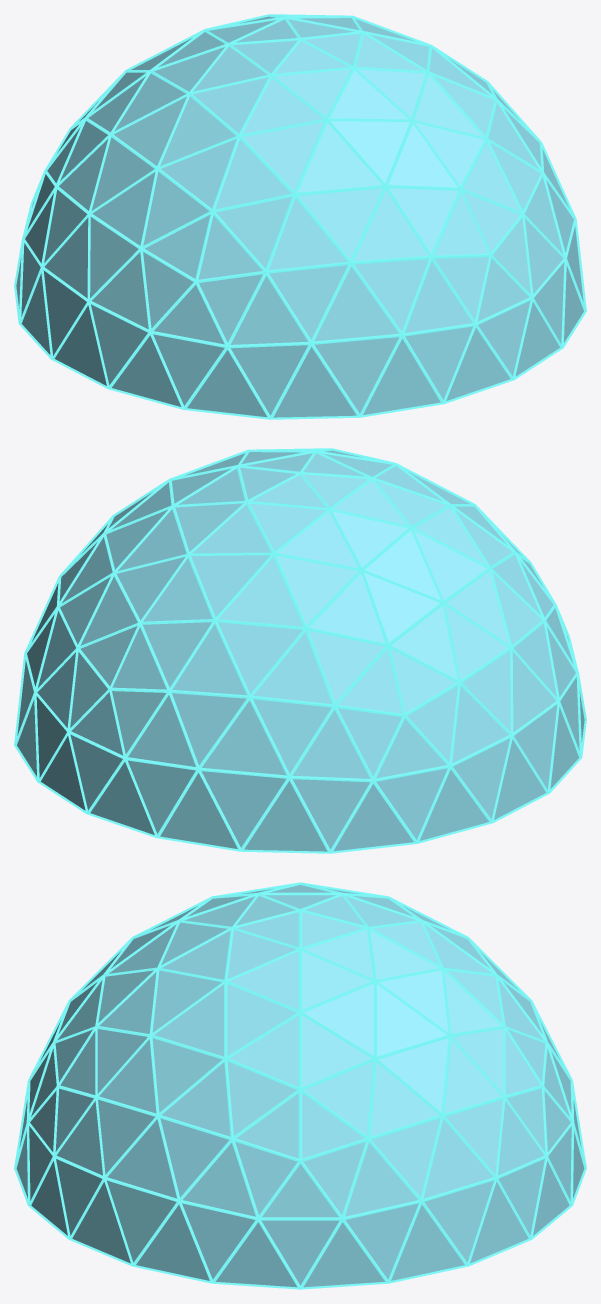
Rendered from techshield.glb.
The picture shows the model from 3 angles, top to bottom: view 1: azimuth 30°, elevation 25°; view 2: azimuth 150°, elevation 25°; view 3: azimuth 270°, elevation 25°; orthographic projection.
Visible parts, largest first — view 1: Icosphere.001; view 2: Icosphere.001; view 3: Icosphere.001.
Part boxes in pixels (x1=…): Icosphere.001: x1=14, y1=14, x2=586, y2=419; Icosphere.001: x1=14, y1=448, x2=586, y2=853; Icosphere.001: x1=14, y1=882, x2=586, y2=1289.
Bounding box in the file's own units: 0.0573 × 0.0287 × 0.0573.
